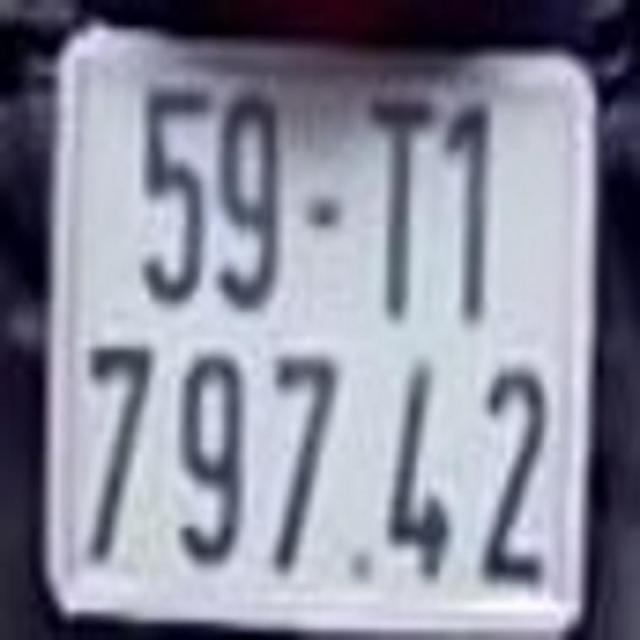1: (441, 101, 499, 314)
2: (480, 355, 550, 592)
4: (384, 356, 451, 572)
5: (142, 88, 197, 301)
7: (82, 344, 161, 563), (269, 352, 334, 568)
9: (174, 354, 245, 567), (216, 91, 283, 306)
T: (365, 98, 426, 316)
